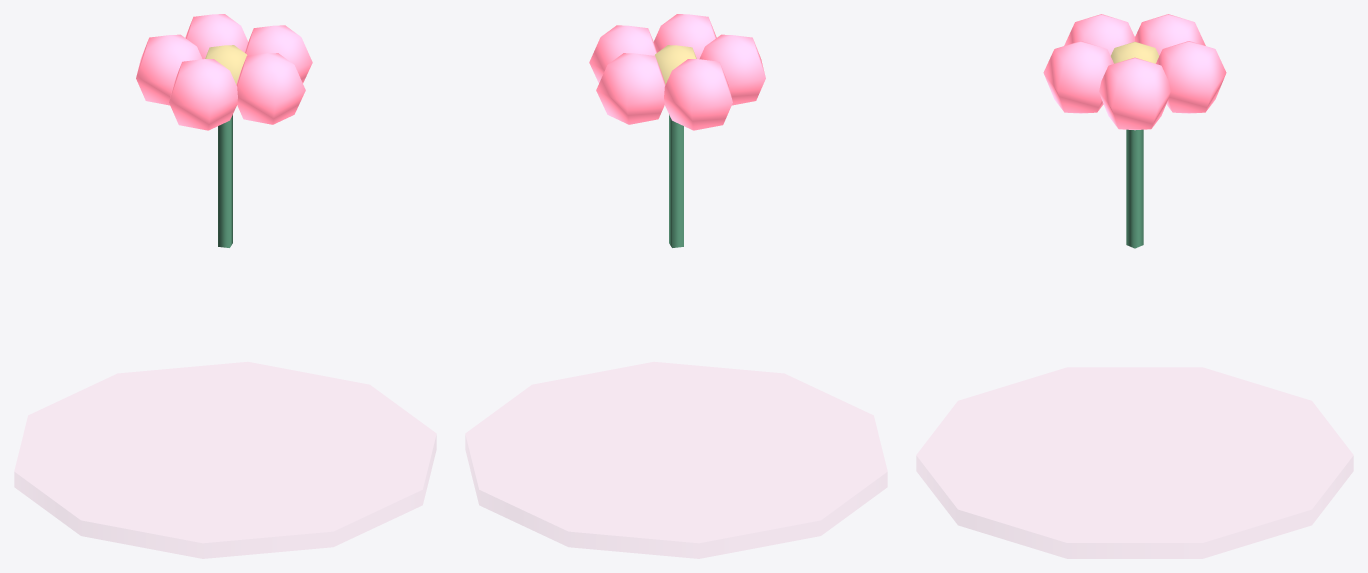
Rendered from flower.glb.
The picture shows the model from 3 angles, left to right: view 1: azimuth 30°, elevation 25°; view 2: azimuth 150°, elevation 25°; view 3: azimuth 270°, elevation 25°; orthographic projection.
Bounding box in the file's own units: 0.9511 × 1.1 × 1.
